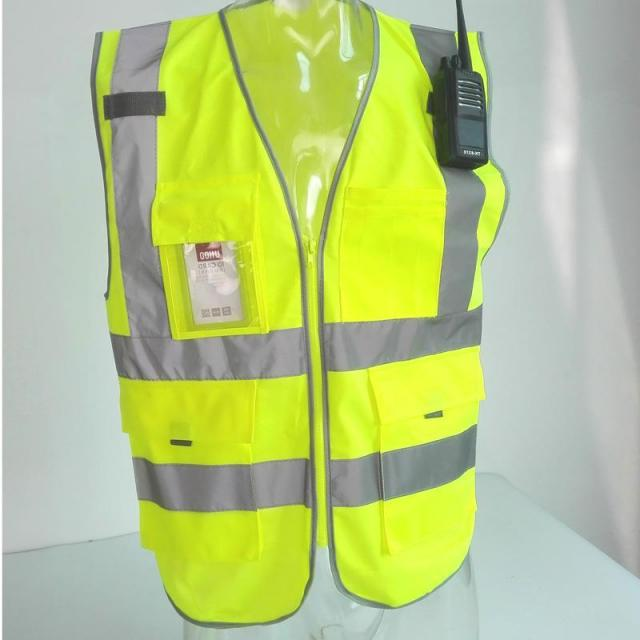Reflective-Jacket: (73, 0, 526, 640)
